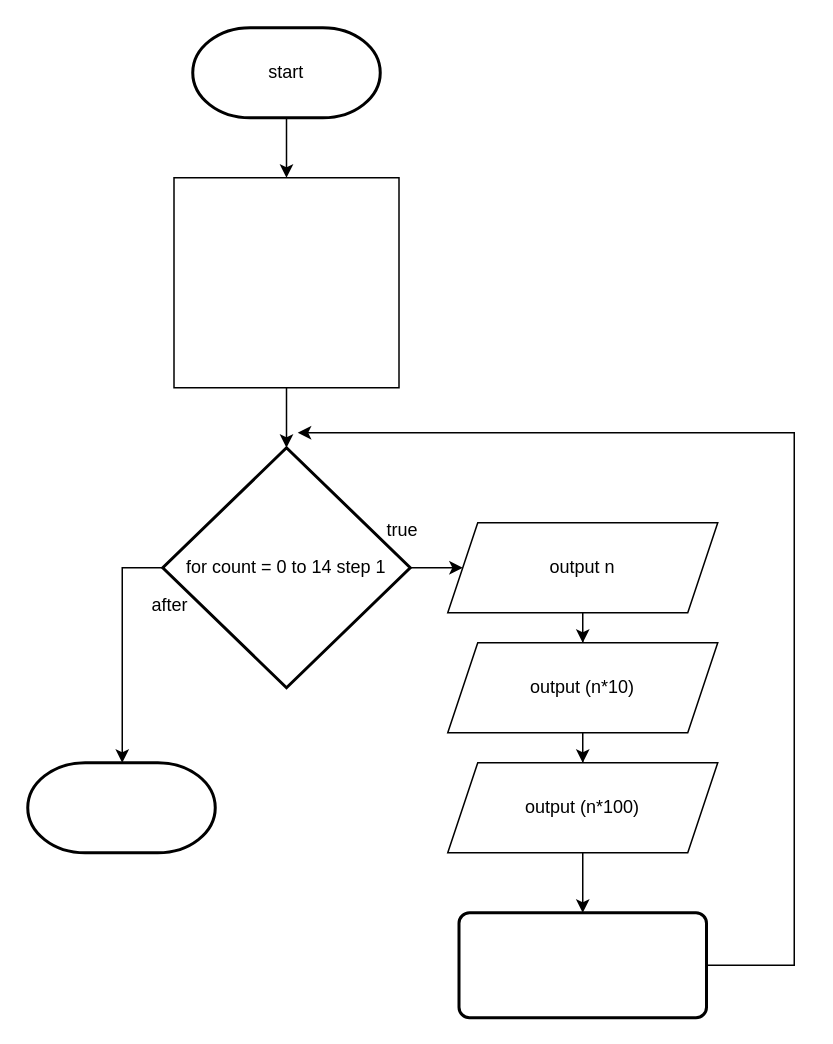
Image size: 833x1044. Some labels were removed from this diagram. The centre of each missing label's shape, as x and y in pixels:
Declarations num n = 1 num count: point (285, 282)
end: point (121, 807)
n = n + 1: point (582, 964)
